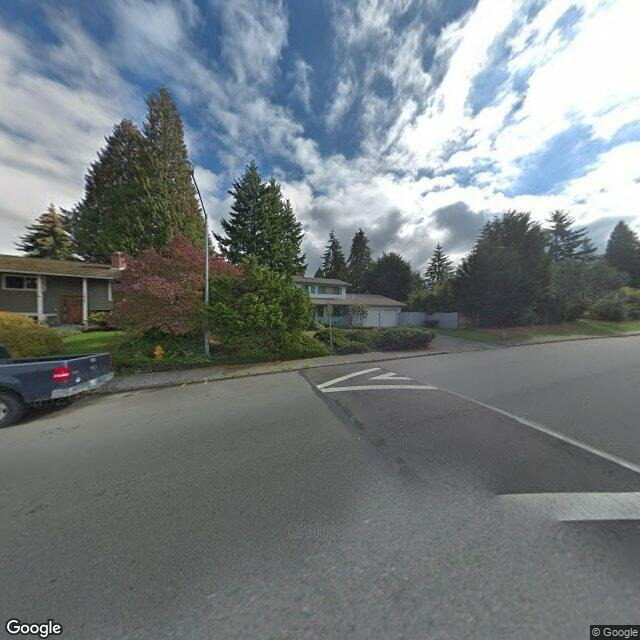hydrant: (148, 343, 167, 363)
